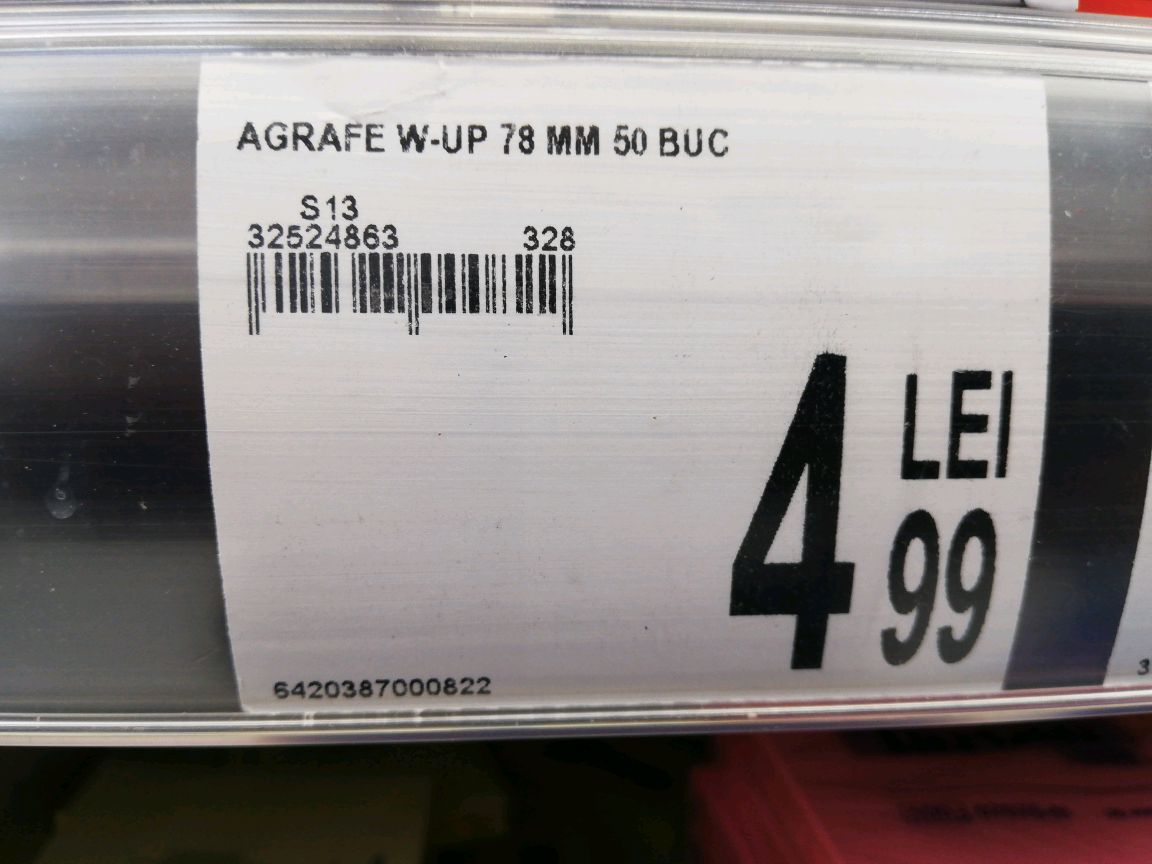price_bani: (869, 501, 1005, 674)
price_lei: (717, 344, 870, 676)
price_tag: (189, 45, 1059, 728)
product_id: (253, 667, 512, 712)
product_name: (221, 106, 751, 177)
